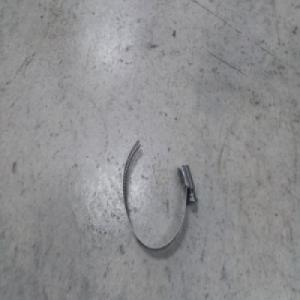AdjustableClamp: (121, 135, 196, 249)
